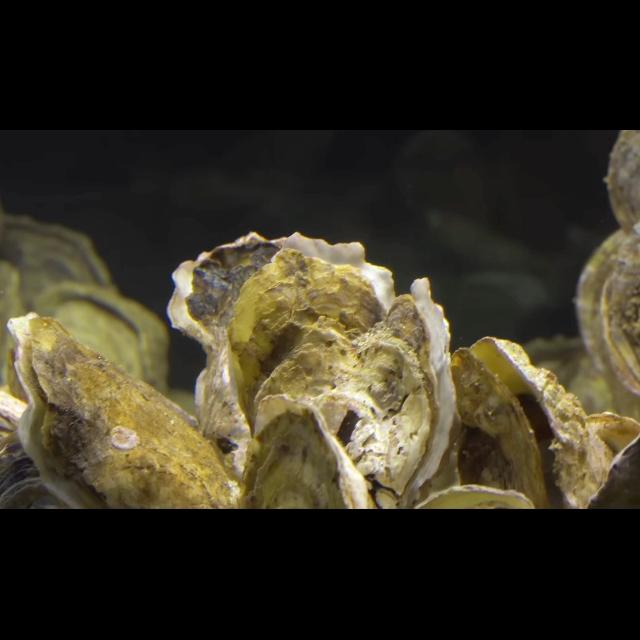Oyster-Closed: (254, 321, 433, 511), (228, 250, 386, 444), (0, 210, 110, 396), (574, 230, 640, 400), (0, 388, 68, 510)
Oyster-Open: (169, 232, 397, 484), (7, 310, 231, 512), (423, 333, 611, 511), (362, 274, 458, 511), (233, 391, 369, 511), (32, 282, 170, 400)
